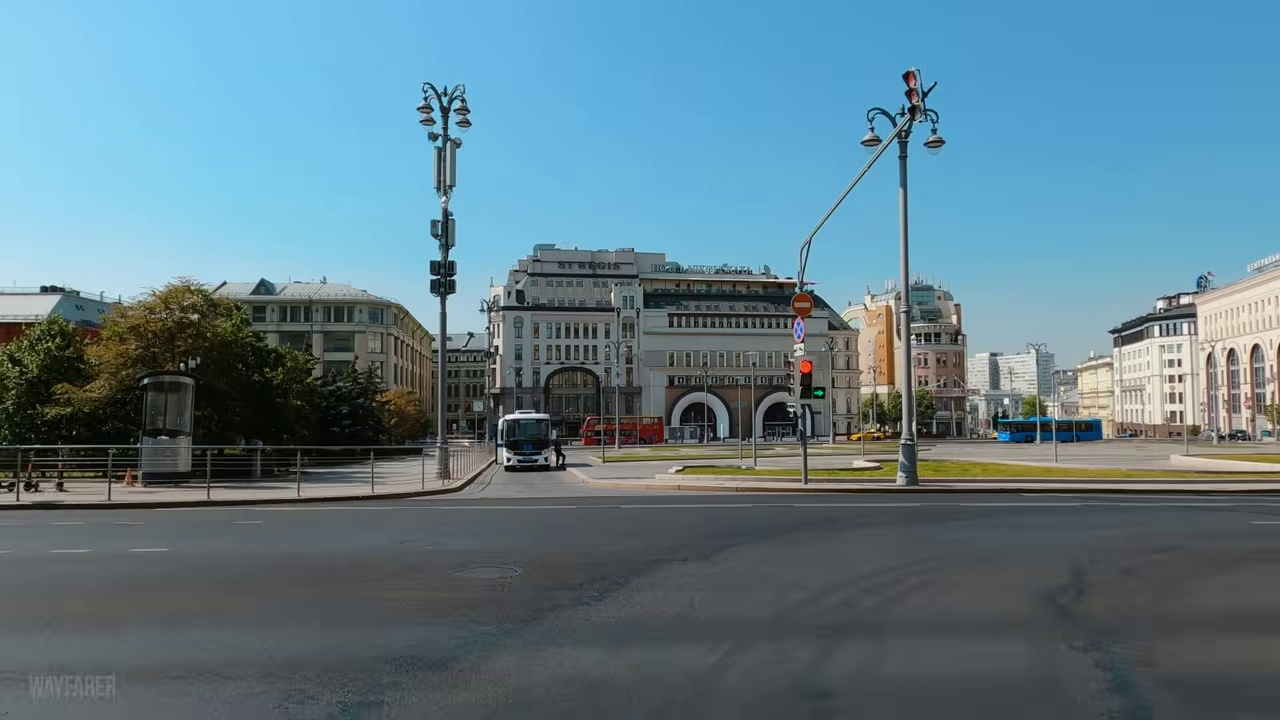apagada: (860, 96, 947, 162), (410, 90, 476, 152), (862, 119, 948, 159)
